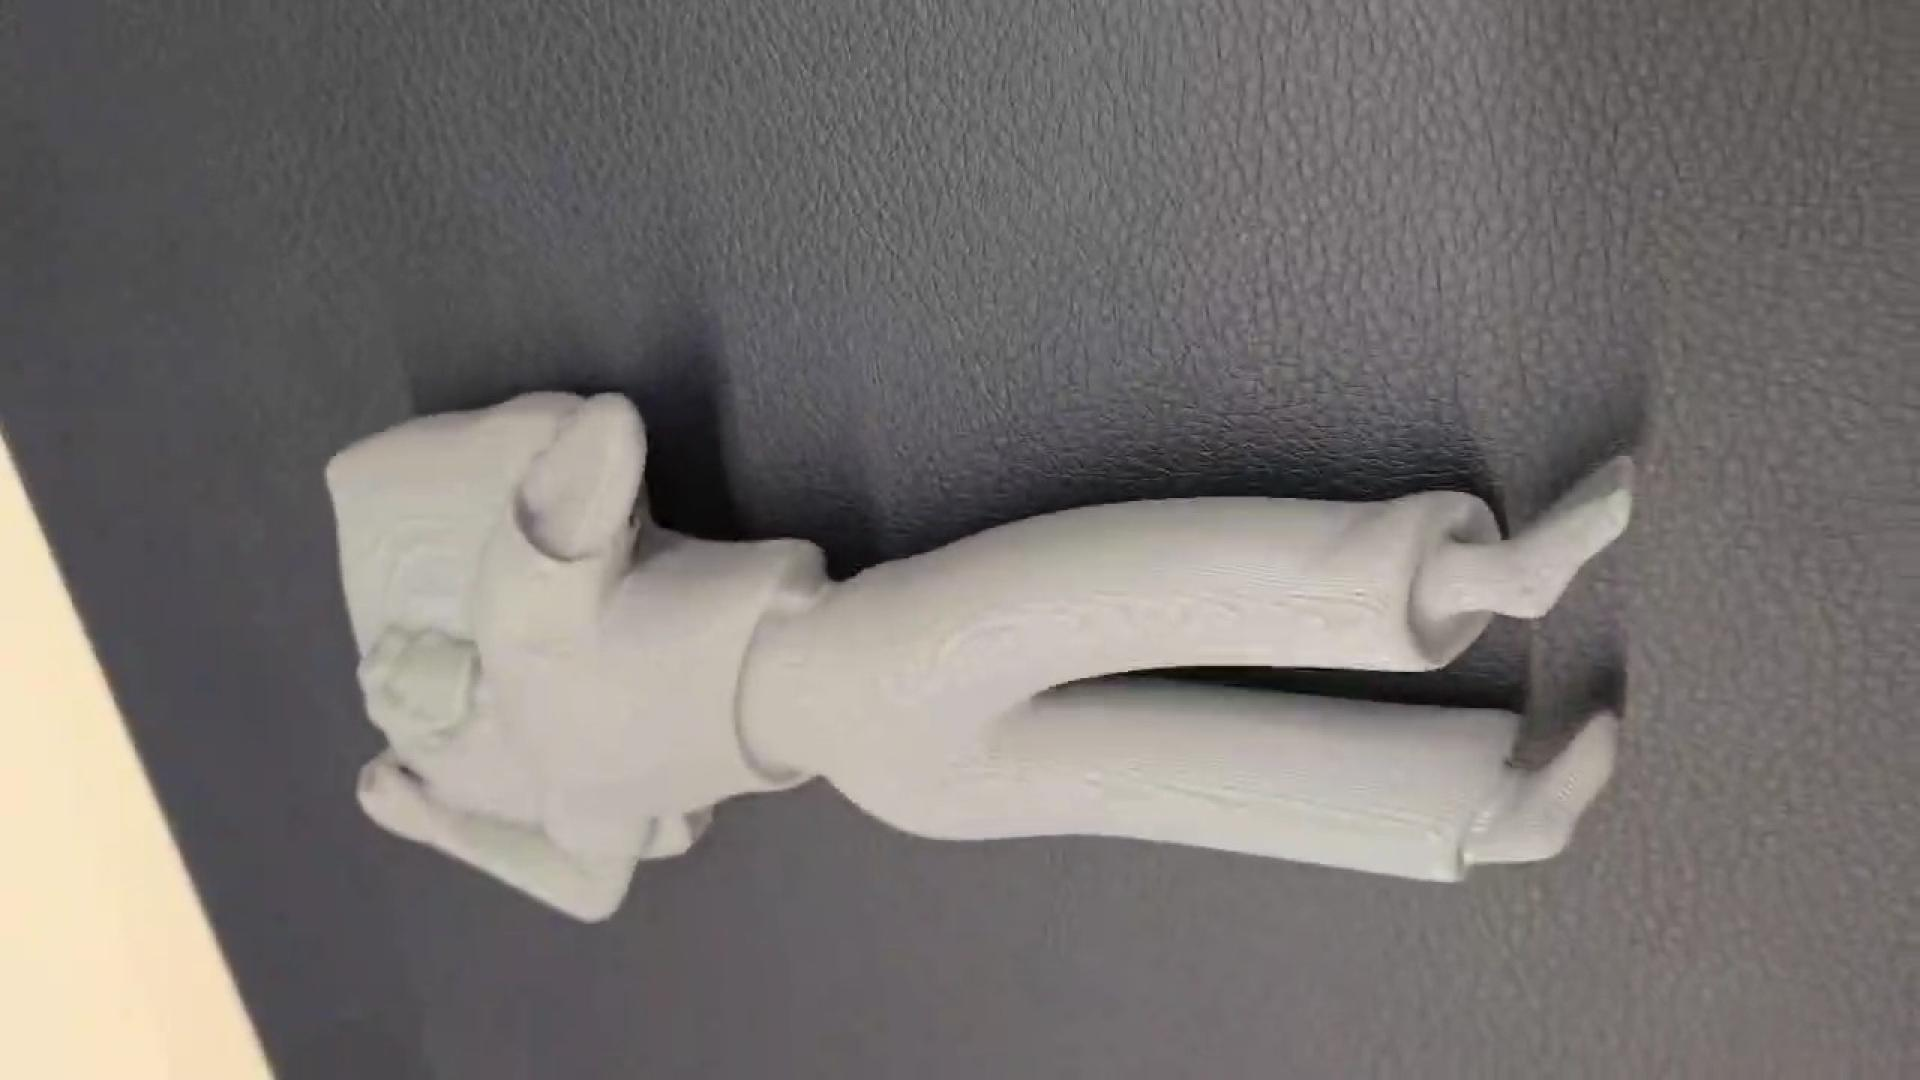Bad-style: (306, 386, 1640, 932)
